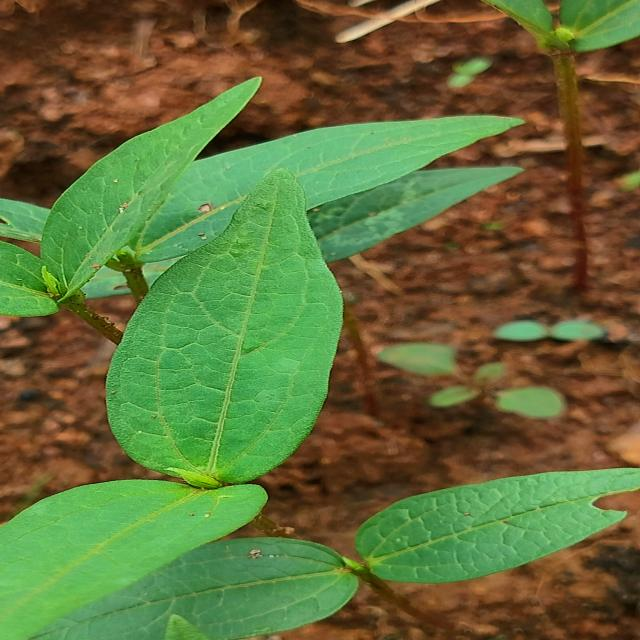Black gram_healthy: (97, 168, 349, 492), (32, 74, 276, 301), (0, 462, 272, 640)
